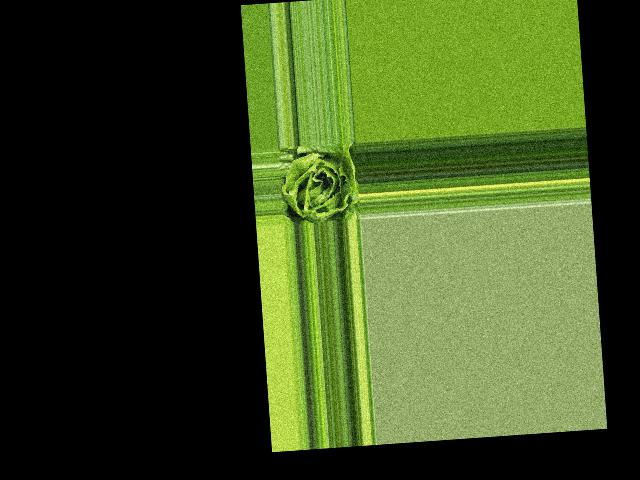lettuce: (278, 141, 360, 224)
